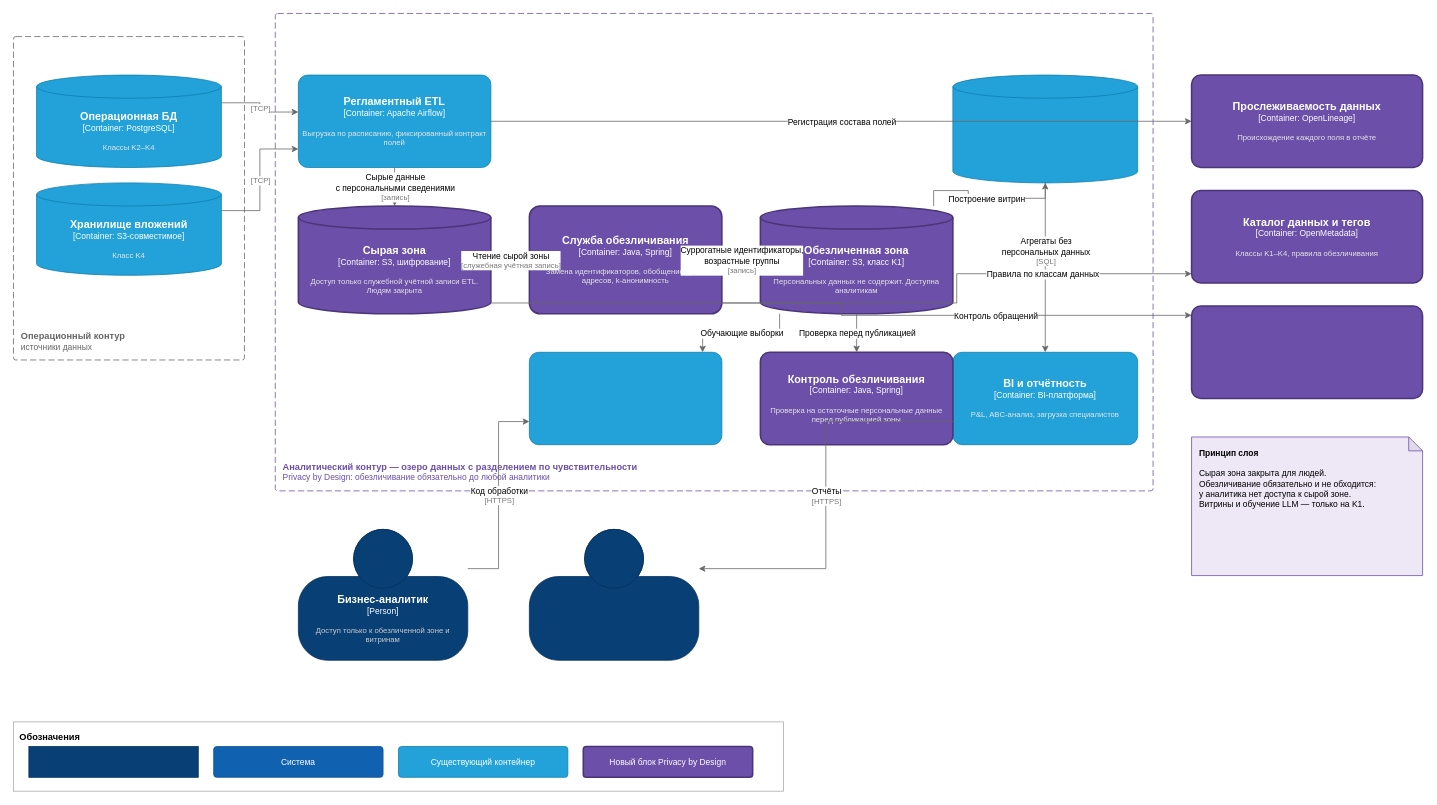
The diagram is 1437 pixels wide and 805 high, and some of its shapes have lost their labels. Each missing label, with the centre of its shape:
ML и обучение LLM [Container: ML-платформа] Модели и корпоративный ассистент: (625,398)
Витрины отчётности [Container: ClickHouse] Агрегаты для BI, признаки для моделей: (1045,128)
Мониторинг и SIEM [Container: SIEM] Алерт на обращение к сырой зоне: (1306,352)
Роль: (113,761)
Руководство [Person] Потребитель отчётности: (614,594)
